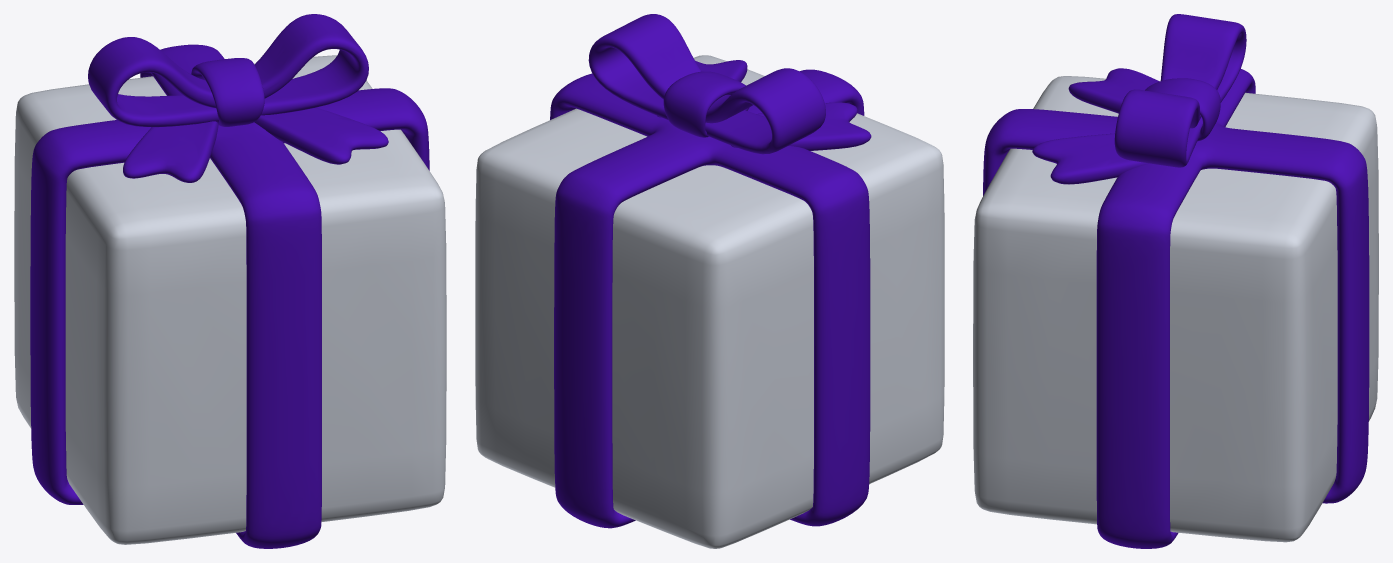
Rendered from gift-optimized.glb.
3 renders of one model, left to right at view 1: azimuth 30°, elevation 25°; view 2: azimuth 150°, elevation 25°; view 3: azimuth 270°, elevation 25°, orthographic. The views are drawn at different scales.
Visible parts, largest first — view 1: Plane003; view 2: Plane003; view 3: Plane003.
Boxes of the visible parts, x1,y1,x2,y2 form: Plane003: [14, 14, 446, 548]; Plane003: [475, 14, 944, 548]; Plane003: [973, 14, 1378, 548].
Size of the model in its own units: 178 by 205 by 178.
